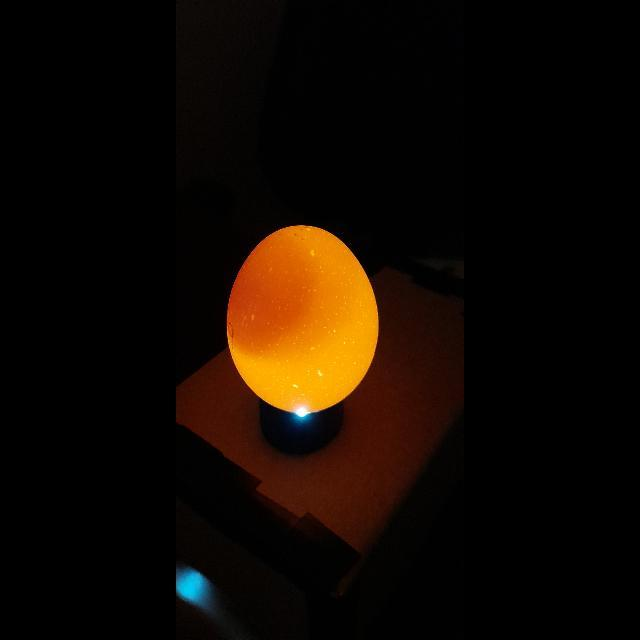A - Good: (224, 218, 386, 418)
